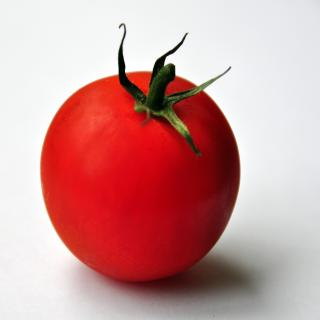tomato: (37, 21, 245, 287)
